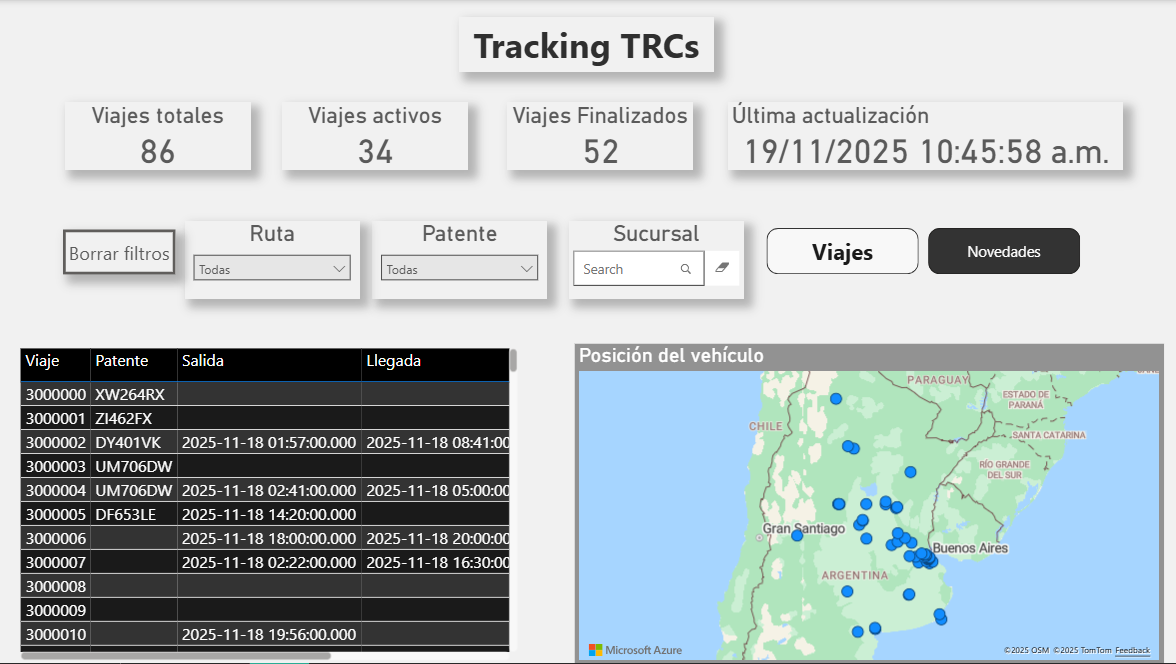

Layout of this report page (visuals, bound fields, positions):
{"tool":"powerbi","page":{"name":"Tracking","canvas":[1280,720],"ordinal":0},"visuals":[{"type":"card","title":"Viajes totales","fields":{"Values":["CountNonNull(Viajes.ID_Viaje)"]},"box":[72.7,110.6,201.7,73.2],"z":0},{"type":"card","title":"Última actualización","fields":{"Values":["Min(Novedades.Fecha_hora _Actualización)"]},"box":[792.7,110.6,429.4,73.2],"z":1000},{"type":"textbox","box":[501,17.9,276.5,60.2],"z":2000},{"type":"azureMap","title":"Posición del vehículo","fields":{"Y":["Viajes.Latitud"],"X":["Viajes.Longitud"]},"box":[626.2,372.5,639.2,348.1],"z":3000},{"type":"textFilter25A4896A83E0487089E2B90C9AE57C8A","title":"Sucursal","fields":{"field":["Viajes.Recorrido_Descripcion"]},"box":[619.7,239.1,190.3,84.6],"z":4000},{"type":"slicer","title":"Ruta","fields":{"Values":["Viajes.Recorrido_Codigo"]},"box":[203.3,239.1,190.3,84.6],"z":5000},{"type":"slicer","title":"Patente","fields":{"Values":["Viajes.Vehiculo_patente"]},"box":[406.6,239.1,190.3,84.6],"z":6000},{"type":"card","title":"Viajes Finalizados","fields":{"Values":["CountNonNull(Viajes.ID_Viaje)"]},"box":[553.6,110.6,201.7,73.2],"z":7000},{"type":"card","title":"Viajes activos","fields":{"Values":["CountNonNull(Viajes.ID_Viaje)"]},"box":[309.6,110.6,201.7,73.2],"z":8000},{"type":"actionButton","box":[72.1,249.4,122,48.8],"z":9000},{"type":"tableEx","title":"Viajes","fields":{"Values":["Viajes.ID_Viaje","Viajes.Vehiculo_patente","Viajes.Transporte_Inicio_Fecha_Hora","Viajes.Transporte_Fin_Fecha_Hora","Viajes.Recorrido_Codigo","Viajes.Recorrido_Descripcion"]},"box":[19.5,372.5,549.8,348.1],"z":10000},{"type":"bookmarkNavigator","box":[835,247.8,341.6,50.4],"z":12000}]}

Visuals, with their boxes in screenshot pixels (x1, y1, x2, y2), scaled from the page's 1280x720 canvas onto the 1176x664 screenshot:
"Viajes totales" card: x1=67 y1=102 x2=252 y2=170
"Última actualización" card: x1=728 y1=102 x2=1123 y2=170
textbox: x1=460 y1=17 x2=714 y2=72
"Posición del vehículo" azureMap: x1=575 y1=344 x2=1163 y2=663
"Sucursal" textFilter25A4896A83E0487089E2B90C9AE57C8A: x1=569 y1=221 x2=744 y2=299
"Ruta" slicer: x1=187 y1=221 x2=362 y2=299
"Patente" slicer: x1=374 y1=221 x2=548 y2=299
"Viajes Finalizados" card: x1=509 y1=102 x2=694 y2=170
"Viajes activos" card: x1=284 y1=102 x2=470 y2=170
actionButton: x1=66 y1=230 x2=178 y2=275
"Viajes" tableEx: x1=18 y1=344 x2=523 y2=663
bookmarkNavigator: x1=767 y1=229 x2=1081 y2=275
